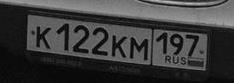license-plateSW: (26, 12, 208, 73)
